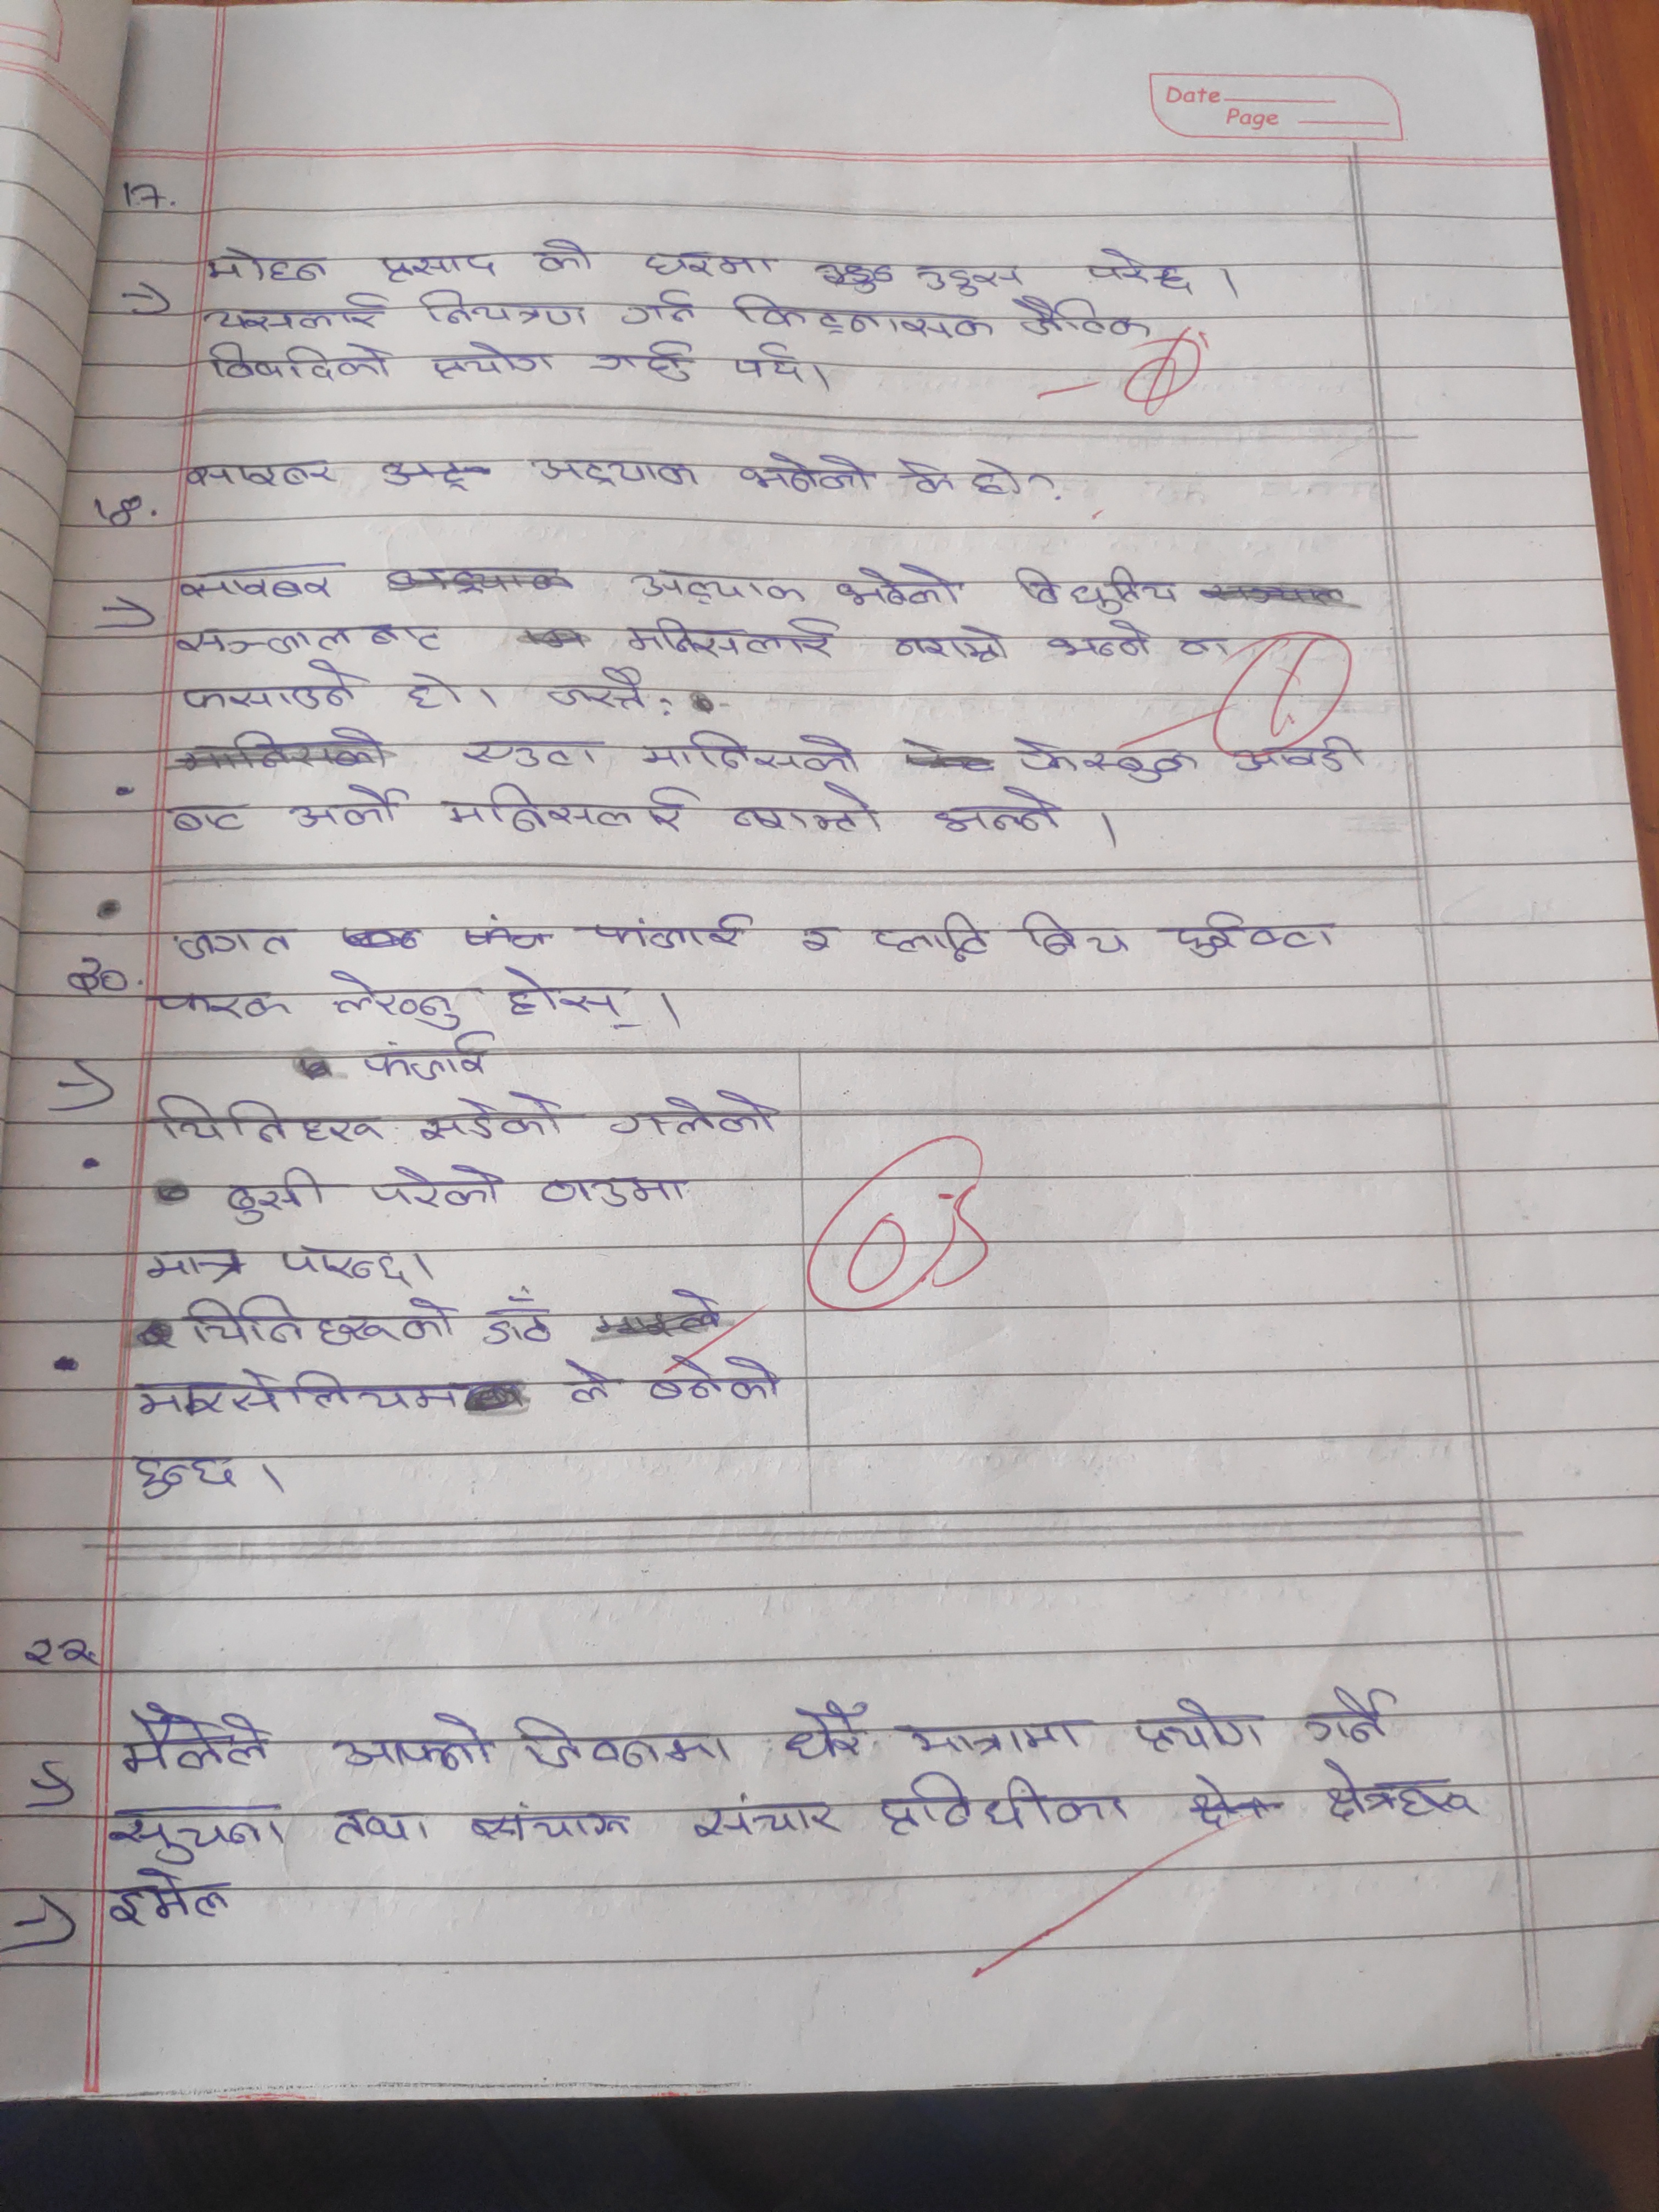text: (131, 1364, 457, 1420), (880, 1766, 1131, 1832), (181, 1291, 464, 1348), (443, 782, 695, 838), (728, 291, 993, 341), (157, 1089, 380, 1148), (512, 1709, 734, 1768), (638, 725, 864, 780), (115, 1700, 275, 1778), (108, 1797, 288, 1864), (329, 1710, 498, 1775), (620, 613, 838, 660), (176, 618, 441, 657), (1321, 1757, 1474, 1824), (497, 965, 640, 1035), (1006, 732, 1201, 782), (179, 660, 361, 714), (730, 780, 885, 840), (415, 1090, 577, 1146), (1007, 561, 1185, 611), (204, 336, 397, 381), (415, 282, 591, 331), (1133, 1693, 1269, 1756), (1164, 909, 1344, 956), (105, 1862, 232, 1928), (329, 970, 469, 1029), (467, 1797, 636, 1846), (631, 566, 809, 611), (364, 1162, 505, 1217), (613, 1090, 774, 1139), (688, 1789, 836, 1841), (582, 909, 758, 953), (645, 1352, 784, 1406), (936, 780, 1061, 838), (1012, 291, 1154, 341), (870, 909, 988, 968), (897, 1717, 1087, 1754), (206, 293, 387, 331), (526, 451, 699, 491), (181, 561, 331, 606), (831, 561, 965, 611), (1304, 1686, 1408, 1750), (218, 1167, 328, 1228), (1018, 909, 1140, 963), (455, 735, 603, 779), (537, 1169, 694, 1209), (739, 449, 877, 495), (188, 451, 335, 493), (281, 1238, 406, 1287), (1225, 733, 1359, 779), (289, 782, 411, 831), (430, 336, 558, 381), (124, 1453, 249, 1498), (324, 1803, 436, 1853), (171, 920, 300, 963), (636, 246, 775, 286), (1079, 247, 1190, 296), (781, 1700, 868, 1761), (589, 336, 692, 385), (204, 247, 335, 286), (887, 622, 1014, 660), (544, 667, 650, 712), (366, 1045, 500, 1080), (1044, 620, 1154, 662), (159, 989, 296, 1022), (476, 1294, 565, 1345), (368, 251, 502, 284), (141, 1245, 251, 1285), (917, 261, 1028, 300), (624, 287, 697, 334), (965, 451, 1030, 498), (404, 669, 472, 712), (561, 1359, 624, 1406), (528, 233, 591, 277), (166, 801, 247, 834), (896, 455, 960, 496), (732, 345, 803, 381), (1168, 636, 1230, 664), (795, 921, 835, 958)
